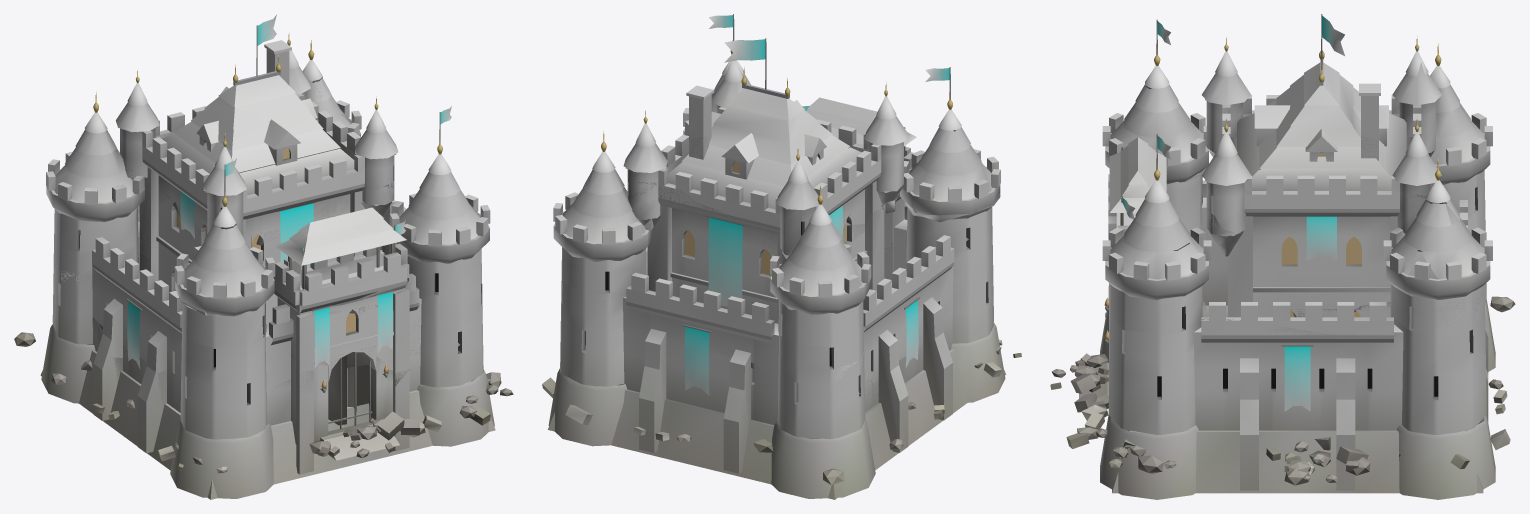
File: keep_kingdom_lod1.glb
3 renders of one model, left to right at view 1: azimuth 30°, elevation 25°; view 2: azimuth 150°, elevation 25°; view 3: azimuth 270°, elevation 25°, orthographic. The views are drawn at different scales.
Parts seen in each view (by area): view 1: stage0, stage3, stage2, stage1; view 2: stage0, stage2, stage3, stage1; view 3: stage0, stage2, stage3, stage1.
Boxes of the visible parts, x1,y1,x2,y2 form: stage0: (40, 14, 495, 499); stage3: (14, 115, 513, 458); stage2: (51, 77, 498, 464); stage1: (121, 143, 483, 470); stage0: (548, 14, 1006, 499); stage2: (542, 169, 1001, 452); stage3: (561, 233, 968, 484); stage1: (560, 130, 1021, 383); stage0: (1079, 14, 1510, 499); stage2: (1070, 167, 1469, 472); stage3: (1050, 250, 1515, 485); stage1: (1110, 62, 1486, 472).
Bounding box in the file's own units: 22.91 × 22.15 × 23.18.
